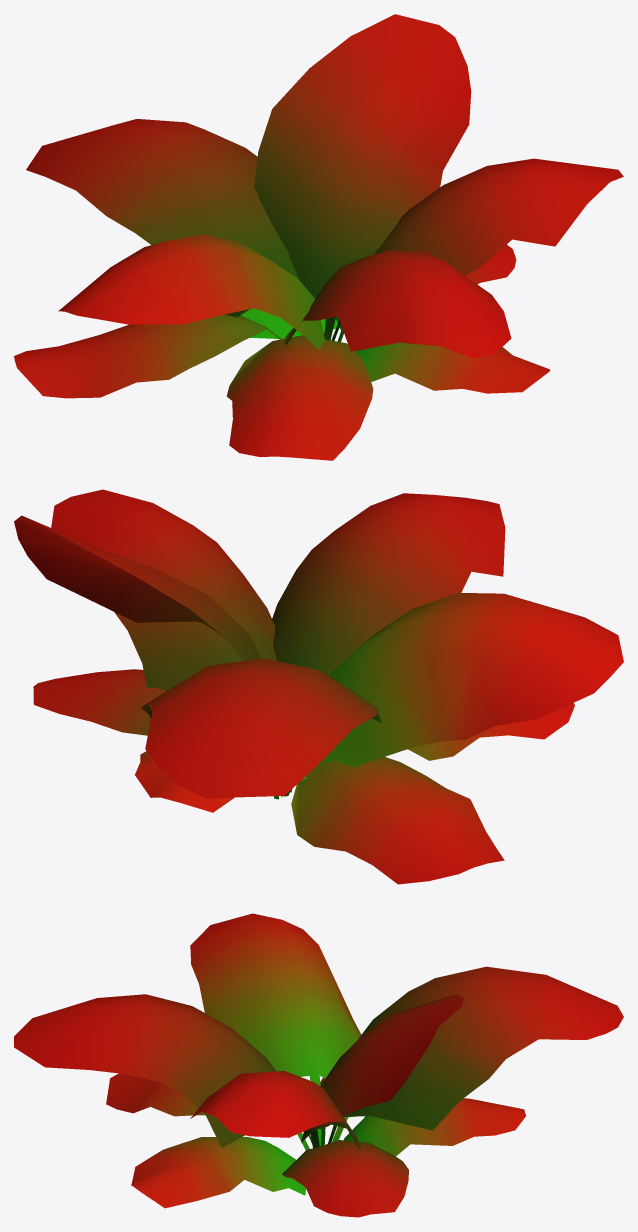
The model's file is Var1_LOD3.fbx.
The picture shows the model from 3 angles, top to bottom: view 1: azimuth 30°, elevation 25°; view 2: azimuth 150°, elevation 25°; view 3: azimuth 270°, elevation 25°; orthographic projection. The views are drawn at different scales.
Parts seen in each view (by area): view 1: _72e5_Var1_LOD3; view 2: _72e5_Var1_LOD3; view 3: _72e5_Var1_LOD3.
Part boxes in pixels (box(x1,y1,x2,y2)): _72e5_Var1_LOD3: box(14, 14, 623, 460); _72e5_Var1_LOD3: box(14, 489, 623, 884); _72e5_Var1_LOD3: box(14, 913, 623, 1217).
Bounding box in the file's own units: 331 × 163 × 361.
